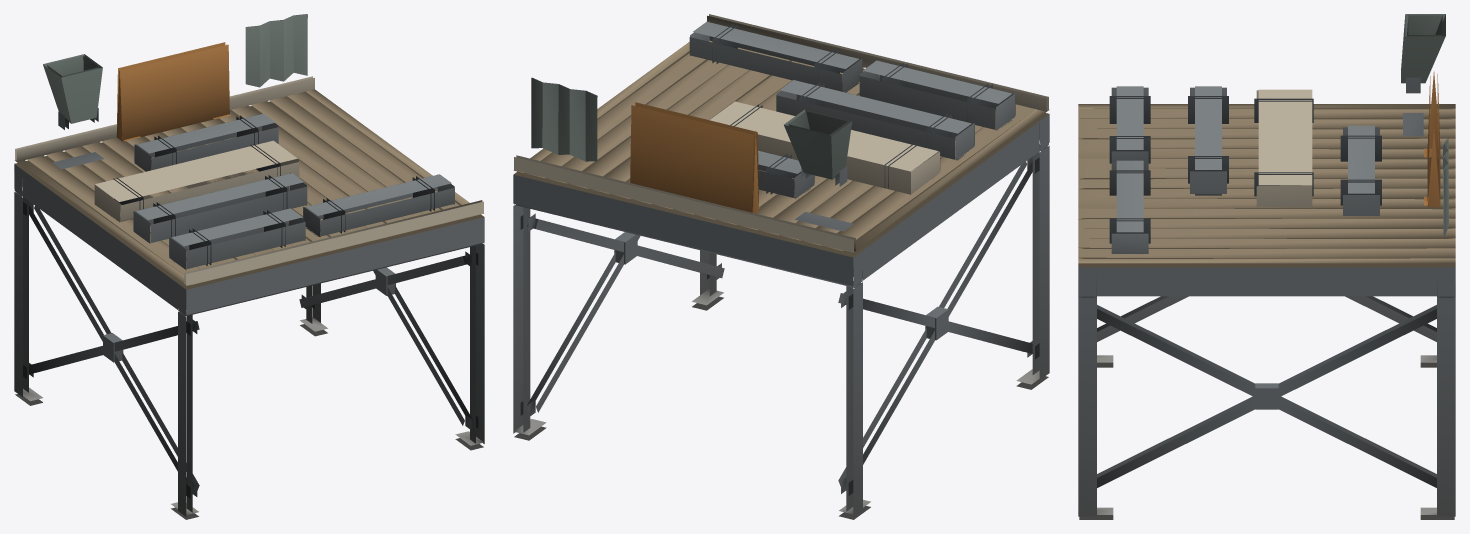
The model's file is gantry.lod.glb.
3 views of the same model, side by side, from view 1: azimuth 30°, elevation 25°; view 2: azimuth 150°, elevation 25°; view 3: azimuth 270°, elevation 25° (orthographic). The views are drawn at different scales.
Visible parts, largest first — view 1: gantry; view 2: gantry; view 3: gantry.
Part boxes in pixels (x1,y1,x2,y2): gantry: (14,14,484,519); gantry: (513,14,1049,519); gantry: (1078,14,1455,519).
Bounding box in the file's own units: 4 × 4.2 × 4.
